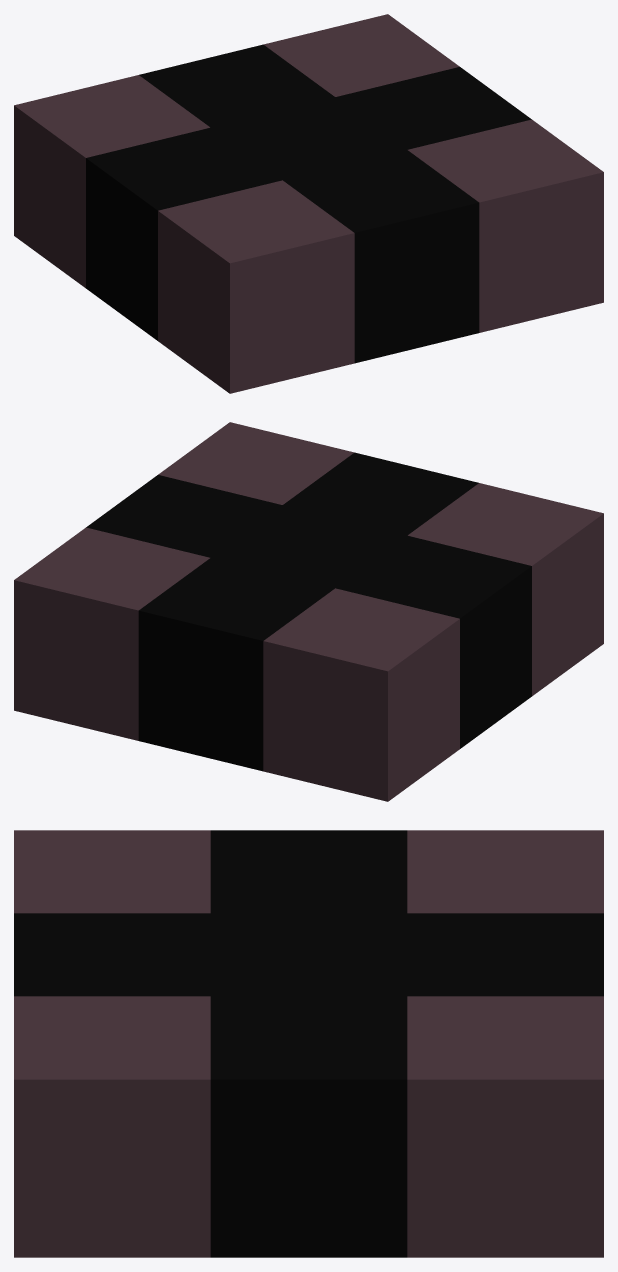
File: spinning_blades_path_b_crossing.obj
3 views of the same model, one above another, from view 1: azimuth 30°, elevation 25°; view 2: azimuth 150°, elevation 25°; view 3: azimuth 270°, elevation 25° (orthographic). The views are drawn at different scales.
Bounding box in the file's own units: 0.3 × 0.1 × 0.3.
1 material, 1 textured.
